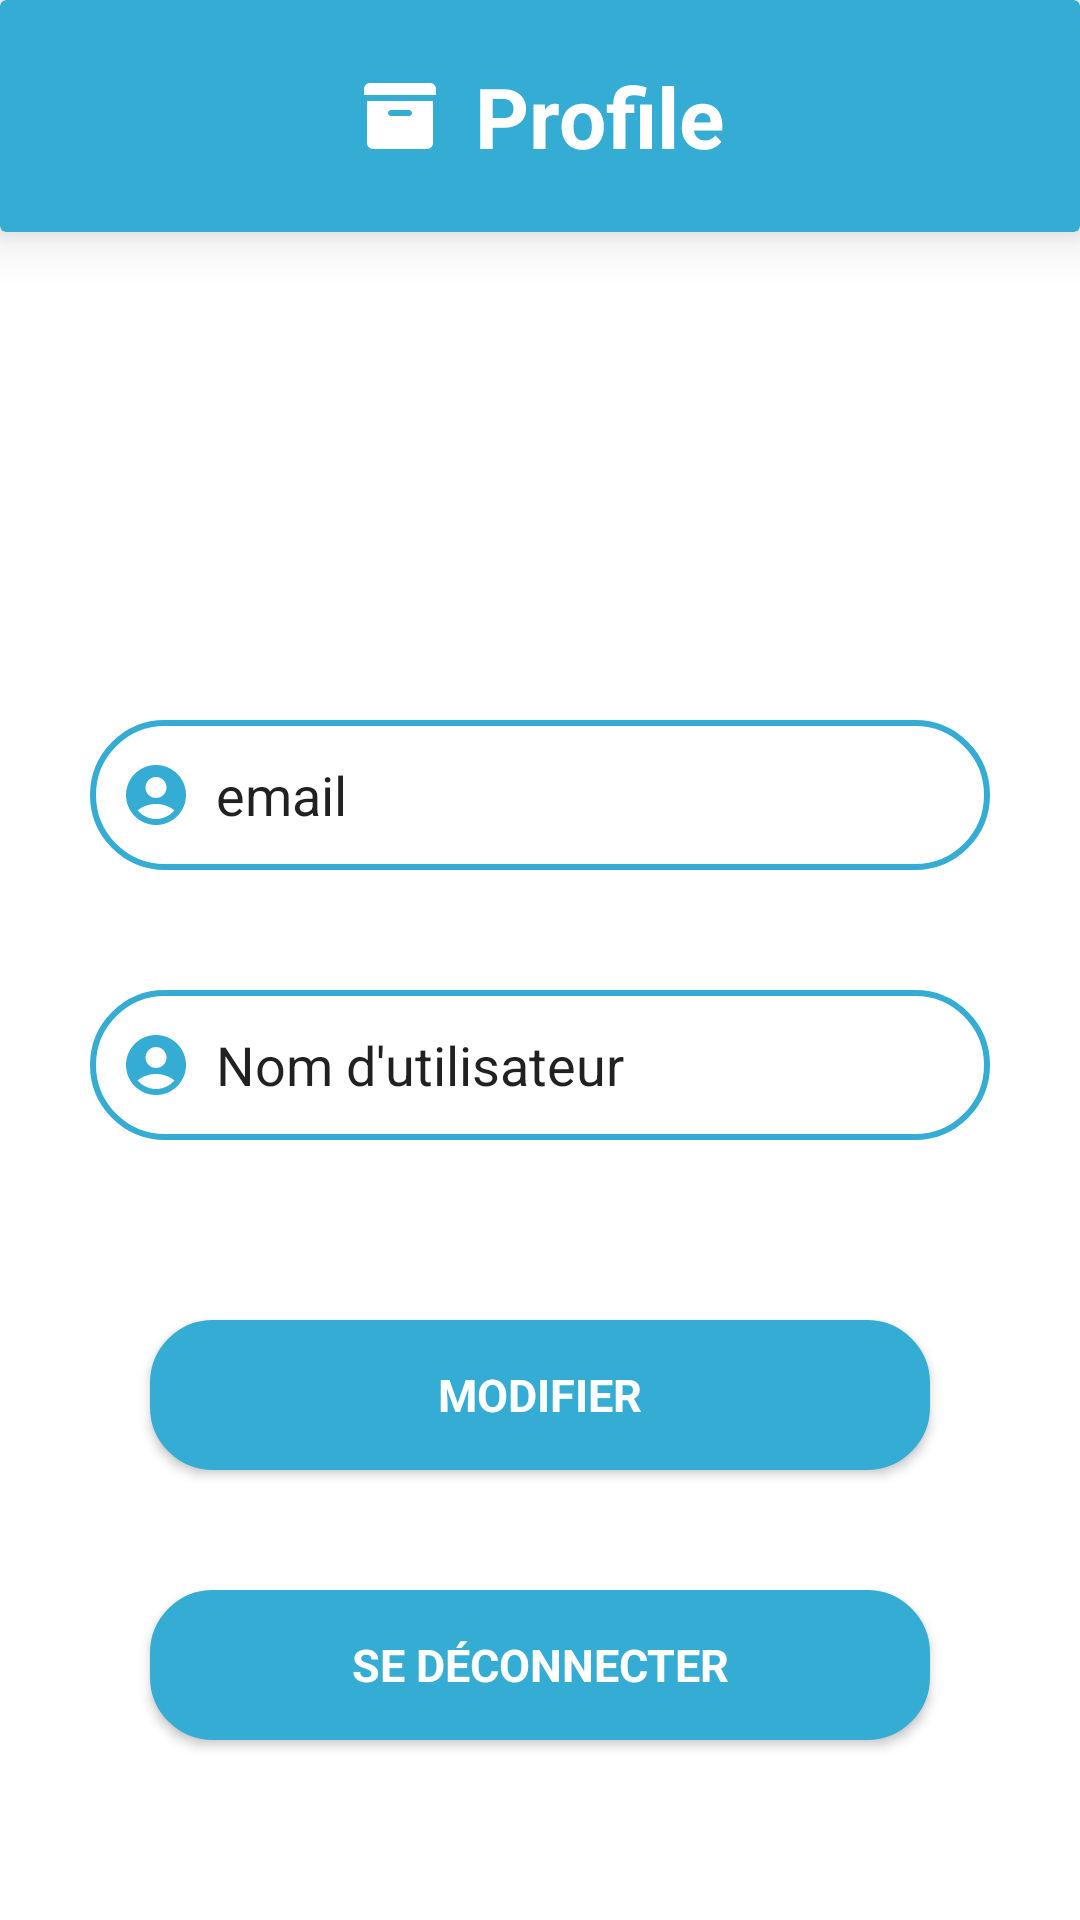

Screen size 1080w x 1920h. Icon name, then its center in pixels as (x=x, y=y):
product: (x=400, y=116)
